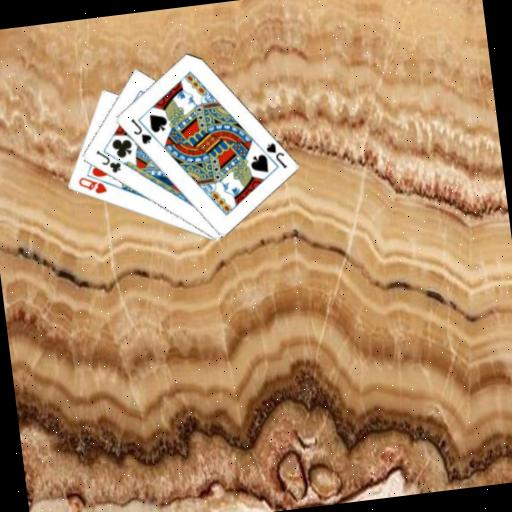JC: (93, 145, 124, 177)
JS: (262, 138, 289, 173), (127, 114, 154, 148)
QH: (74, 171, 109, 198)
